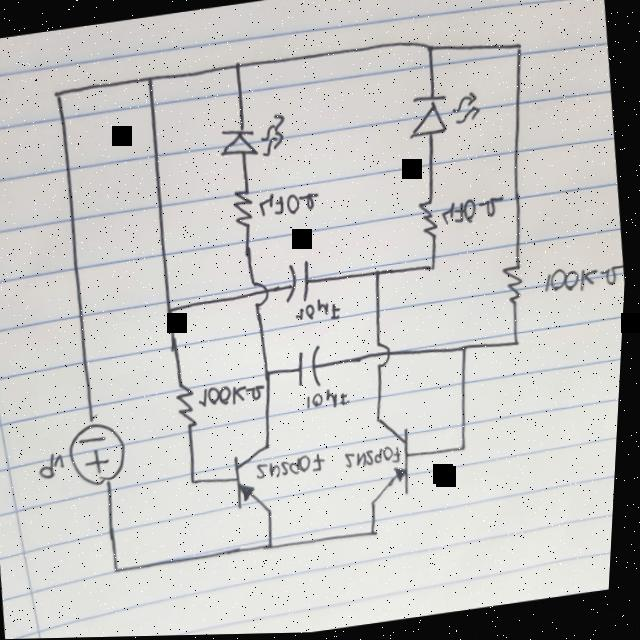capacitor: (280, 258, 319, 308), (292, 341, 330, 392)
crossover: (251, 278, 273, 309), (375, 338, 396, 370)
diode: (406, 87, 483, 144), (215, 109, 292, 165)
junction: (367, 263, 388, 284), (420, 35, 439, 56), (507, 40, 524, 61), (459, 437, 476, 458), (264, 537, 283, 555), (165, 303, 182, 322), (262, 364, 279, 382), (50, 85, 65, 105), (458, 340, 473, 360), (371, 526, 387, 544), (141, 72, 156, 90), (229, 58, 243, 77), (509, 335, 524, 352), (114, 558, 129, 575), (189, 473, 204, 489), (427, 263, 438, 275)
resistor: (173, 376, 204, 434), (498, 262, 531, 312), (229, 185, 260, 234), (414, 197, 444, 244)
source: (66, 412, 138, 492)
text: (541, 254, 629, 299), (258, 447, 331, 485), (257, 181, 324, 221), (440, 190, 506, 230), (197, 380, 266, 410), (306, 379, 357, 416), (293, 295, 348, 328), (346, 443, 407, 471), (37, 448, 72, 484)
transistor: (361, 411, 424, 511), (229, 439, 284, 521)
